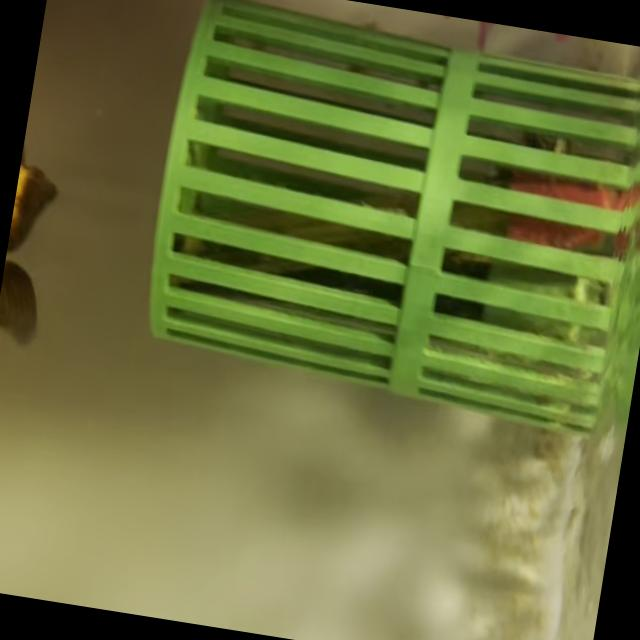fish: (0, 88, 78, 381)
